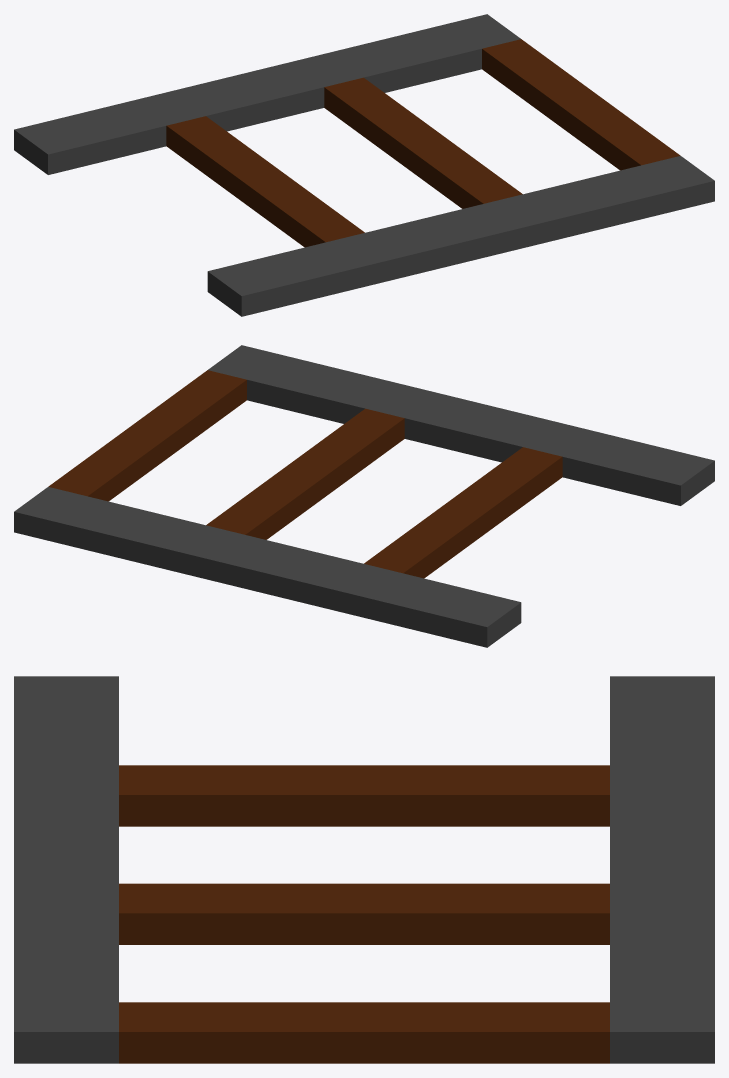
File: trilho.obj
3 views of the same model, one above another, from view 1: azimuth 30°, elevation 25°; view 2: azimuth 150°, elevation 25°; view 3: azimuth 270°, elevation 25° (orthographic). The views are drawn at different scales.
Bounding box in the file's own units: 2.4 × 0.1 × 2.
1 material, 1 textured.
